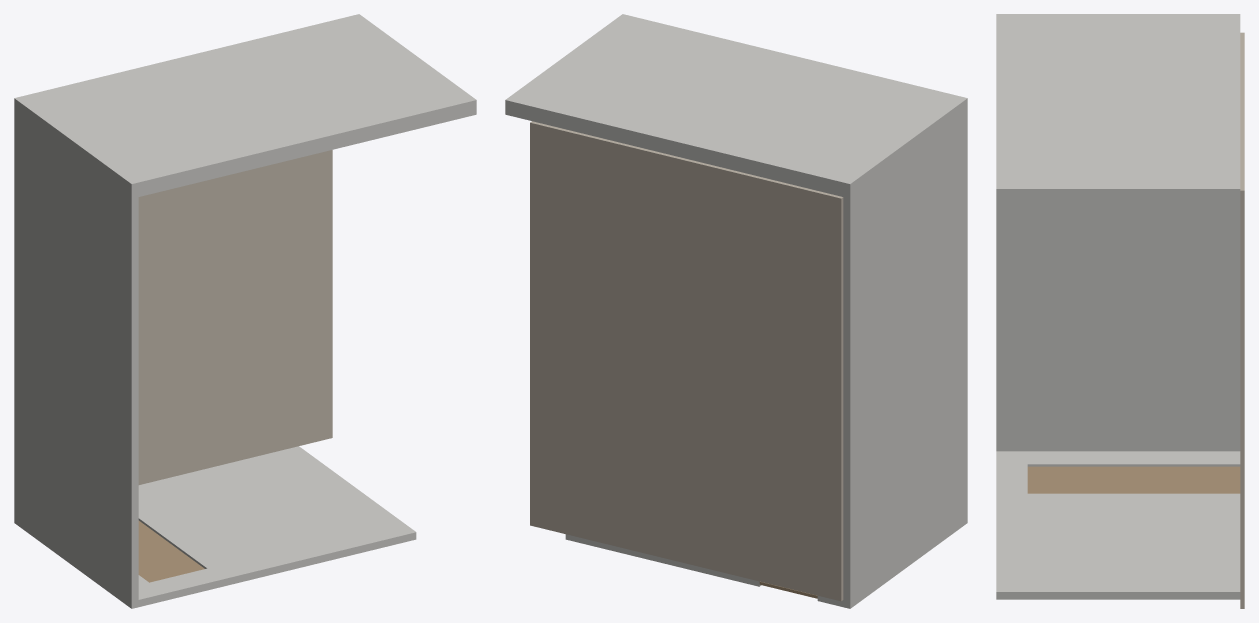
Rendered from plan.glb.
3 renders of one model, left to right at view 1: azimuth 30°, elevation 25°; view 2: azimuth 150°, elevation 25°; view 3: azimuth 270°, elevation 25°, orthographic. The views are drawn at different scales.
Visible parts, largest first — view 1: walls, floor_Room_1, doors; view 2: floor_Room_1, walls; view 3: walls, doors, floor_Room_1.
Part boxes in pixels (x1,y1,x2,y2): walls: (14, 14, 476, 608); floor_Room_1: (138, 150, 332, 484); doors: (138, 520, 204, 582); floor_Room_1: (530, 121, 843, 601); walls: (505, 14, 967, 608); walls: (996, 14, 1240, 599); doors: (1027, 466, 1240, 493); floor_Room_1: (1240, 32, 1244, 608).
Size of the model in its own units: 4.93 by 5.8 by 2.96.
